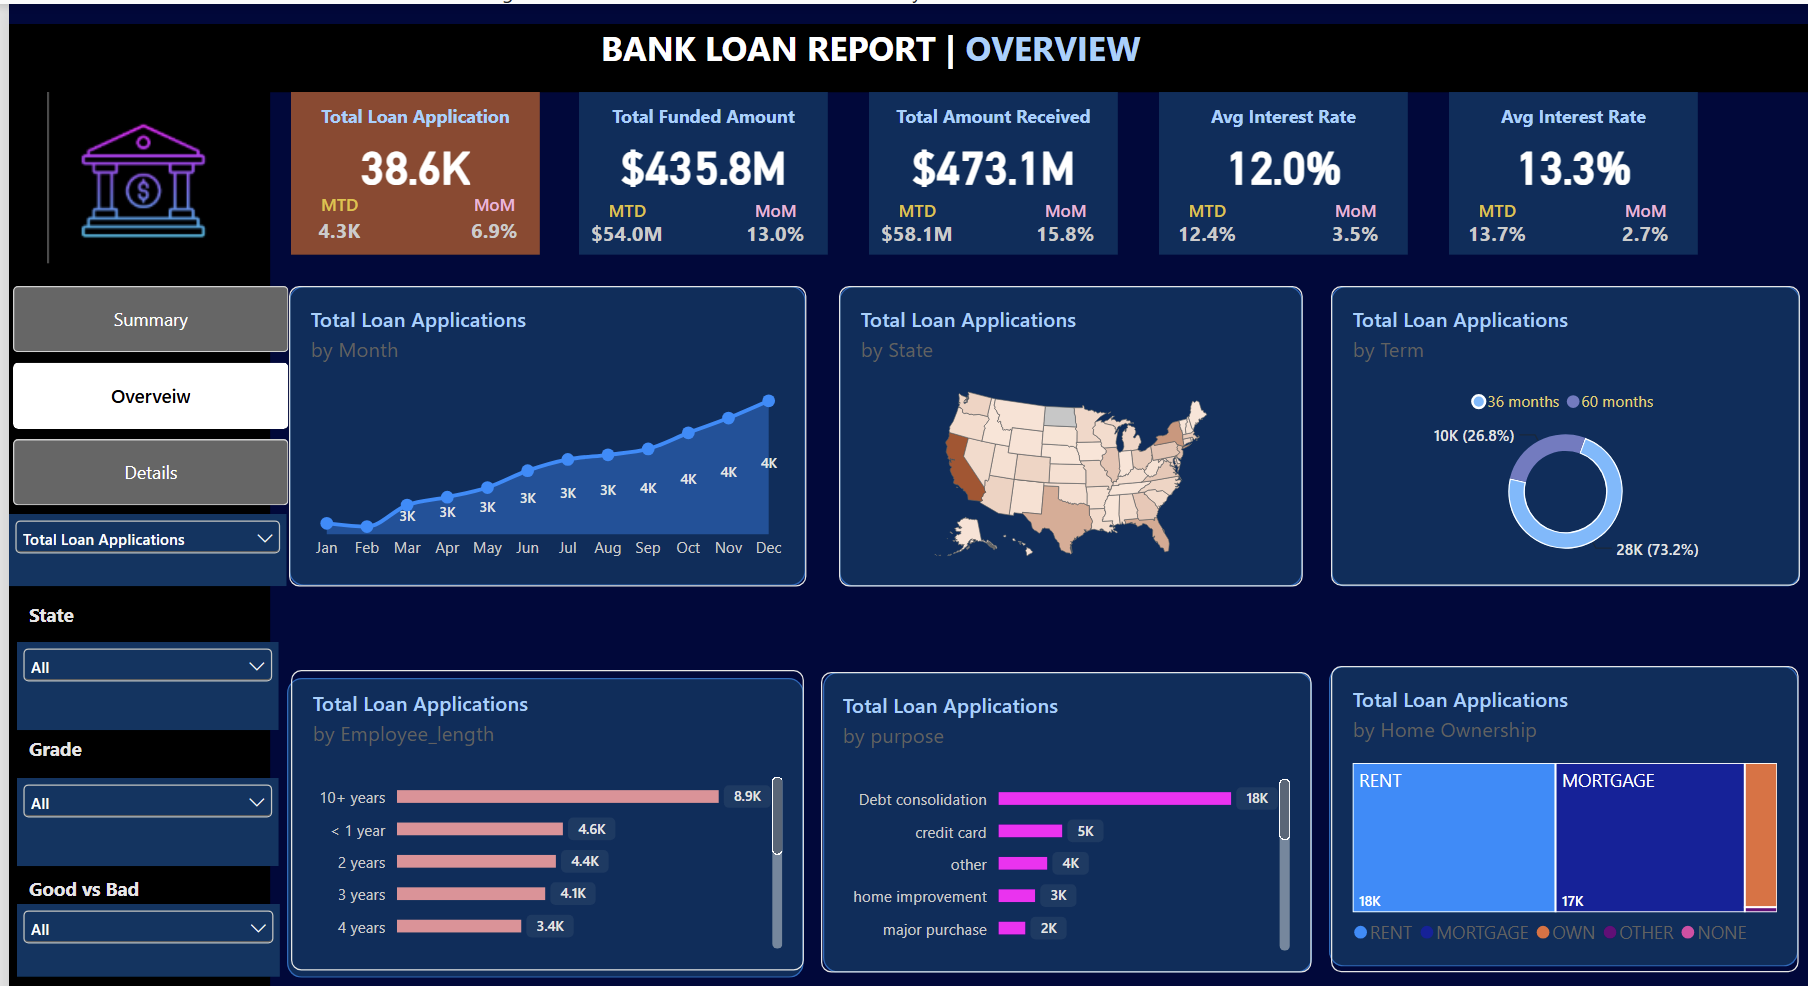

The dashboard page shown, as its layout file describes it:
{"tool":"powerbi","page":{"name":"Overveiw","canvas":[1920,1080],"ordinal":1},"visuals":[{"type":"shape","box":[218.8,221.2,405,235],"z":0},{"type":"shape","box":[0,15,1920,53.8],"z":1000},{"type":"shape","box":[0,43.8,205,1026.2],"z":2000},{"type":"textbox","box":[463.8,15,475,38.8],"z":3000},{"type":"textbox","box":[221.2,68.8,195,127.5],"z":3000,"group":"g1"},{"type":"textbox","box":[446.6,68.8,195,127.5],"z":3000,"group":"g2"},{"type":"textbox","box":[673.4,68.8,195,127.5],"z":3000,"group":"g3"},{"type":"textbox","box":[900.3,68.8,195,127.5],"z":3000,"group":"g4"},{"type":"textbox","box":[1127.2,68.8,195,127.5],"z":3000,"group":"g5"},{"type":"group","id":"g1","title":"Group 1","box":[221.2,68.8,195,127.5],"z":4000},{"type":"cardVisual","fields":{"Data":["bank_loan_data.Total Loan Applications"]},"box":[221.2,102.6,195,50],"z":4000,"group":"g1"},{"type":"cardVisual","fields":{"Data":["bank_loan_data.Total Funded Amount"]},"box":[446.6,102.6,195,50],"z":4000,"group":"g2"},{"type":"cardVisual","fields":{"Data":["bank_loan_data.Total Amount Received"]},"box":[673.4,102.6,195,50],"z":4000,"group":"g3"},{"type":"cardVisual","fields":{"Data":["bank_loan_data.Average Interest Rate"]},"box":[900.3,102.6,195,50],"z":4000,"group":"g4"},{"type":"cardVisual","fields":{"Data":["bank_loan_data.Avg DTI"]},"box":[1127.2,102.6,195,50],"z":4000,"group":"g5"},{"type":"group","id":"g2","title":"Group 1","box":[439.4,68.8,203.8,127.5],"z":5000},{"type":"textbox","box":[221.2,77.6,195,25],"z":5000,"group":"g1"},{"type":"textbox","box":[446.6,77.6,195,25],"z":5000,"group":"g2"},{"type":"textbox","box":[673.4,77.6,195,25],"z":5000,"group":"g3"},{"type":"textbox","box":[900.3,77.6,195,25],"z":5000,"group":"g4"},{"type":"textbox","box":[1127.2,77.6,195,25],"z":5000,"group":"g5"},{"type":"group","id":"g3","title":"Group 1","box":[666.2,68.8,203.8,127.5],"z":6000},{"type":"cardVisual","title":"MoM","fields":{"Data":["bank_loan_data.MOM Loan Application"]},"box":[345,147.6,71.2,40],"z":6000,"group":"g1"},{"type":"cardVisual","title":"MoM","fields":{"Data":["bank_loan_data.MOM Total funded amount"]},"box":[559.9,151.6,82.5,36.2],"z":6000,"group":"g2"},{"type":"cardVisual","title":"MoM","fields":{"Data":["bank_loan_data.MOM Total Amount Received"]},"box":[786.7,151.6,82.5,36.2],"z":6000,"group":"g3"},{"type":"cardVisual","title":"MoM","fields":{"Data":["bank_loan_data.MOM Avg Interest Rate"]},"box":[1013.6,151.6,82.5,36.2],"z":6000,"group":"g4"},{"type":"cardVisual","title":"MoM","fields":{"Data":["bank_loan_data.MOM Total Avg"]},"box":[1240.5,151.6,82.5,36.2],"z":6000,"group":"g5"},{"type":"group","id":"g4","title":"Group 1","box":[893.1,68.8,203.8,127.5],"z":7000},{"type":"cardVisual","title":"MTD","fields":{"Data":["bank_loan_data.MTD Loan Applications"]},"box":[221.2,147.6,76.2,40],"z":7000,"group":"g1"},{"type":"cardVisual","title":"MTD","fields":{"Data":["bank_loan_data.MTD Funded Amount"]},"box":[439.4,151.6,91.2,36.2],"z":7000,"group":"g2"},{"type":"cardVisual","title":"MTD","fields":{"Data":["bank_loan_data.MTD Total Amount Received"]},"box":[666.2,151.6,91.2,36.2],"z":7000,"group":"g3"},{"type":"cardVisual","title":"MTD","fields":{"Data":["bank_loan_data.MTD Avg Int Rate"]},"box":[893.1,151.6,91.2,36.2],"z":7000,"group":"g4"},{"type":"cardVisual","title":"MTD","fields":{"Data":["bank_loan_data.MTD Avg DTI"]},"box":[1120,151.6,91.2,36.2],"z":7000,"group":"g5"},{"type":"group","id":"g5","title":"Group 1","box":[1120,68.8,203.8,127.5],"z":8000},{"type":"slicer","fields":{"Values":["bank_loan_data.address_state"]},"box":[6.5,500.7,205,68.8],"z":9000},{"type":"textbox","box":[16.3,469.4,81.6,22.4],"z":10000},{"type":"slicer","fields":{"Values":["bank_loan_data.grade"]},"box":[6.5,605.9,205,68.8],"z":11000},{"type":"textbox","box":[15.6,573.5,61,32.5],"z":12000},{"type":"slicer","fields":{"Values":["bank_loan_data.Good v Bad Loan"]},"box":[6.5,706.1,206.1,57.1],"z":13000},{"type":"textbox","box":[15.4,683,132.2,23.3],"z":14000},{"type":"stackedAreaChart","fields":{"Category":["Date Table.Month"],"Y":["bank_loan_data.Total Loan Applications"]},"box":[220,221.1,405.6,235.6],"z":15000},{"type":"slicer","fields":{"Values":["Select Measure.Select Measure"]},"box":[0,400,217.7,56.5],"z":16000},{"type":"shape","box":[650,221.1,363.3,235.6],"z":17000},{"type":"shapeMap","fields":{"Category":["bank_loan_data.address_state"],"Value":["bank_loan_data.Total Loan Applications"]},"box":[650,221.1,363.3,235.6],"z":18000},{"type":"shape","box":[1035.6,221.1,367.8,235.6],"z":19000},{"type":"donutChart","fields":{"Category":["bank_loan_data.term"],"Y":["bank_loan_data.Total Loan Applications"]},"box":[1035.6,221.1,367.6,235.1],"z":20000},{"type":"shape","box":[218.4,528.6,405,235],"z":21000},{"type":"barChart","fields":{"Category":["bank_loan_data.emp_length"],"Y":["bank_loan_data.Total Loan Applications"]},"box":[220.4,522.4,402.2,235.6],"z":22000},{"type":"shape","box":[637.8,523.3,383.3,235.6],"z":23000},{"type":"barChart","fields":{"Category":["bank_loan_data.purpose"],"Y":["bank_loan_data.Total Loan Applications"]},"box":[636.9,523.3,384.4,235.6],"z":24000},{"type":"shape","box":[1034.4,518.9,367.8,235.6],"z":25000},{"type":"treemap","fields":{"Group":["bank_loan_data.home_ownership"],"Values":["bank_loan_data.Total Loan Applications"]},"box":[1035.6,518.9,366.7,240],"z":26000},{"type":"pageNavigator","box":[3.2,221,216.4,174.5],"z":27000},{"type":"image","box":[21.8,69.1,160,134.5],"z":27001}]}

Visuals, with their boxes on the page's 1920x1080 design canvas (x1, y1, x2, y2). These are canvas units, not pixel positions in the 1808x986 screenshot, which may show the page scaled, cropped or inside an application window:
shape: <box>219,221,624,456</box>
shape: <box>0,15,1920,69</box>
shape: <box>0,44,205,1070</box>
textbox: <box>464,15,939,54</box>
textbox: <box>221,69,416,196</box>
textbox: <box>447,69,642,196</box>
textbox: <box>673,69,868,196</box>
textbox: <box>900,69,1095,196</box>
textbox: <box>1127,69,1322,196</box>
"Group 1" group: <box>221,69,416,196</box>
cardVisual - bank_loan_data.Total Loan Applications: <box>221,103,416,153</box>
cardVisual - bank_loan_data.Total Funded Amount: <box>447,103,642,153</box>
cardVisual - bank_loan_data.Total Amount Received: <box>673,103,868,153</box>
cardVisual - bank_loan_data.Average Interest Rate: <box>900,103,1095,153</box>
cardVisual - bank_loan_data.Avg DTI: <box>1127,103,1322,153</box>
"Group 1" group: <box>439,69,643,196</box>
textbox: <box>221,78,416,103</box>
textbox: <box>447,78,642,103</box>
textbox: <box>673,78,868,103</box>
textbox: <box>900,78,1095,103</box>
textbox: <box>1127,78,1322,103</box>
"Group 1" group: <box>666,69,870,196</box>
"MoM" cardVisual: <box>345,148,416,188</box>
"MoM" cardVisual: <box>560,152,642,188</box>
"MoM" cardVisual: <box>787,152,869,188</box>
"MoM" cardVisual: <box>1014,152,1096,188</box>
"MoM" cardVisual: <box>1240,152,1323,188</box>
"Group 1" group: <box>893,69,1097,196</box>
"MTD" cardVisual: <box>221,148,297,188</box>
"MTD" cardVisual: <box>439,152,531,188</box>
"MTD" cardVisual: <box>666,152,757,188</box>
"MTD" cardVisual: <box>893,152,984,188</box>
"MTD" cardVisual: <box>1120,152,1211,188</box>
"Group 1" group: <box>1120,69,1324,196</box>
slicer - bank_loan_data.address_state: <box>6,501,212,570</box>
textbox: <box>16,469,98,492</box>
slicer - bank_loan_data.grade: <box>6,606,212,675</box>
textbox: <box>16,574,77,606</box>
slicer - bank_loan_data.Good v Bad Loan: <box>6,706,213,763</box>
textbox: <box>15,683,148,706</box>
stackedAreaChart - Date Table.Month x bank_loan_data.Total Loan Applications: <box>220,221,626,457</box>
slicer - Select Measure.Select Measure: <box>0,400,218,456</box>
shape: <box>650,221,1013,457</box>
shapeMap - bank_loan_data.address_state x bank_loan_data.Total Loan Applications: <box>650,221,1013,457</box>
shape: <box>1036,221,1403,457</box>
donutChart - bank_loan_data.term x bank_loan_data.Total Loan Applications: <box>1036,221,1403,456</box>
shape: <box>218,529,623,764</box>
barChart - bank_loan_data.emp_length x bank_loan_data.Total Loan Applications: <box>220,522,623,758</box>
shape: <box>638,523,1021,759</box>
barChart - bank_loan_data.purpose x bank_loan_data.Total Loan Applications: <box>637,523,1021,759</box>
shape: <box>1034,519,1402,754</box>
treemap - bank_loan_data.home_ownership x bank_loan_data.Total Loan Applications: <box>1036,519,1402,759</box>
pageNavigator: <box>3,221,220,396</box>
image: <box>22,69,182,204</box>
